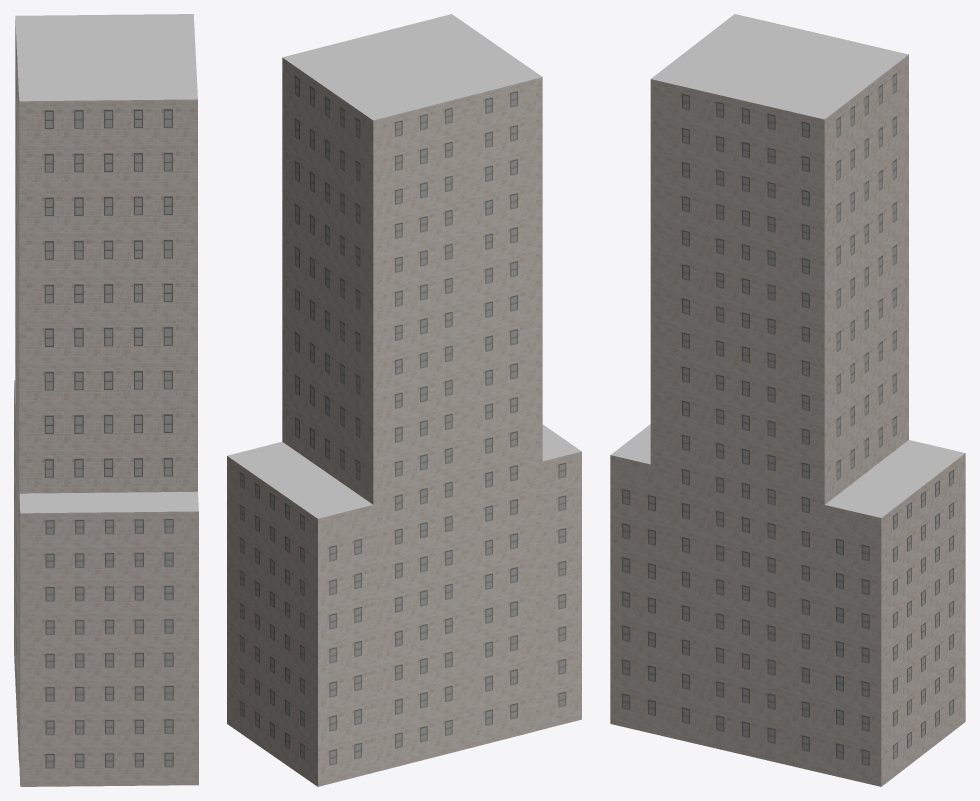
File: building-1-1-2.dae
3 renders of one model, left to right at view 1: azimuth 30°, elevation 25°; view 2: azimuth 150°, elevation 25°; view 3: azimuth 270°, elevation 25°, orthographic. The views are drawn at different scales.
Parts seen in each view (by area): view 1: geopipeinodeZi87nBuv (×3); view 2: geopipeinodeZi87nBuv (×3); view 3: geopipeinodeZi87nBuv (×3).
Part boxes in pixels (box(x1,y1,x2,y2)): geopipeinodeZi87nBuv (×3): box(14, 14, 198, 786); geopipeinodeZi87nBuv (×3): box(227, 14, 581, 786); geopipeinodeZi87nBuv (×3): box(610, 14, 965, 786).
Bounding box in the file's own units: 30.66 × 35.9 × 73.
